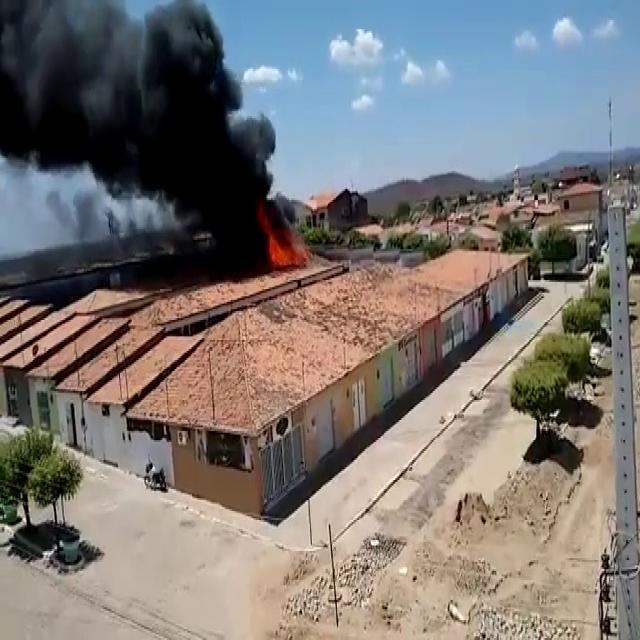Fire: (256, 208, 310, 268)
Smoke: (3, 0, 309, 278)
